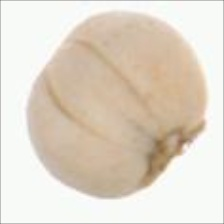L5: (41, 38, 161, 151), (135, 115, 209, 191)
L6: (24, 10, 210, 201)
